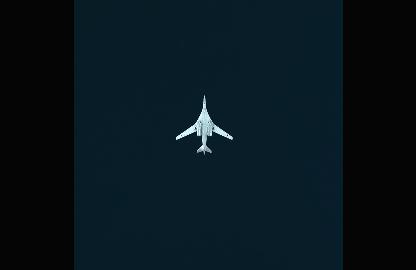Su34: (174, 94, 232, 154)
